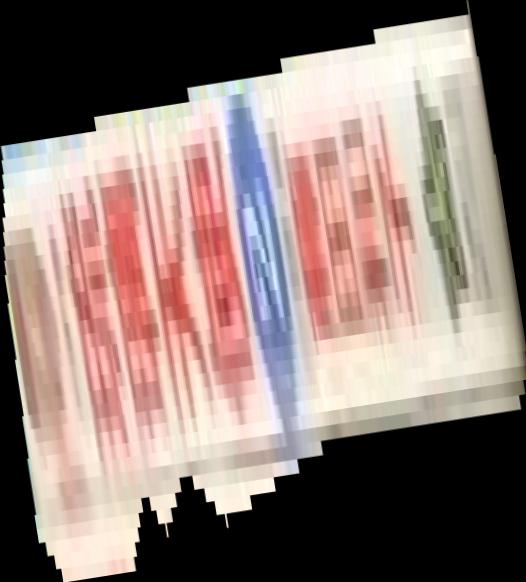flat: (1, 1, 526, 582)
